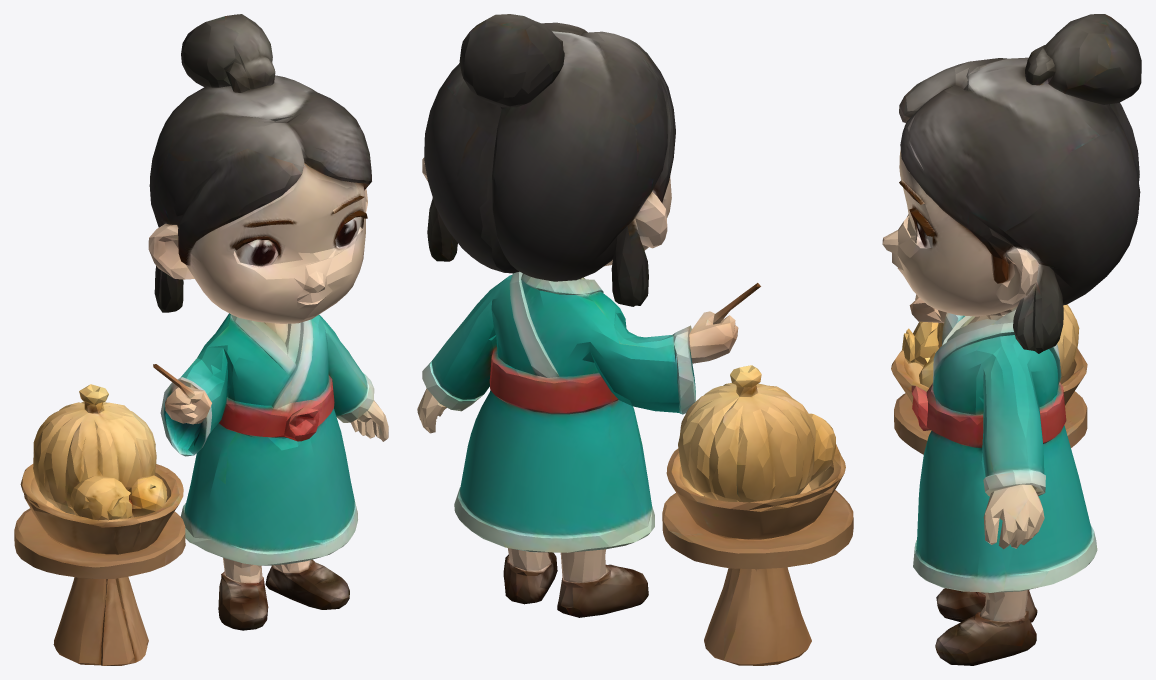
Rendered from shopkeeper.glb.
The picture shows the model from 3 angles, left to right: view 1: azimuth 30°, elevation 25°; view 2: azimuth 150°, elevation 25°; view 3: azimuth 270°, elevation 25°; orthographic projection. The views are drawn at different scales.
Visible parts, largest first — view 1: model; view 2: model; view 3: model.
Part boxes in pixels (x1=…): model: x1=14, y1=14, x2=388, y2=665; model: x1=417, y1=14, x2=853, y2=665; model: x1=882, y1=14, x2=1141, y2=665.
Size of the model in its own units: 0.6953 by 1 by 0.3821.
1 material, 1 textured.
